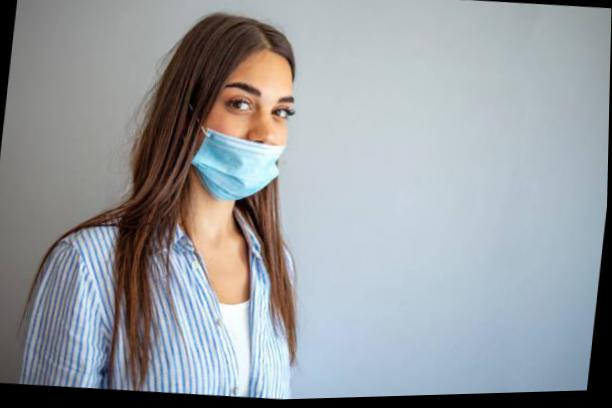WRONG: (190, 78, 298, 209)
